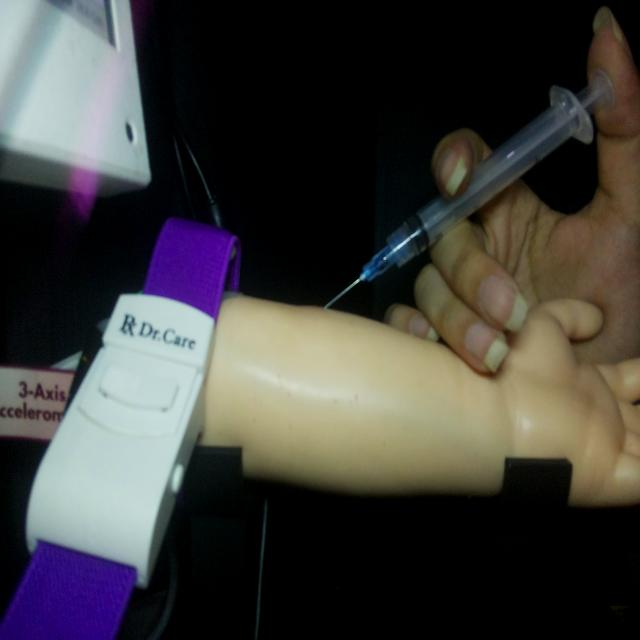28 degrees: (322, 65, 616, 312)
